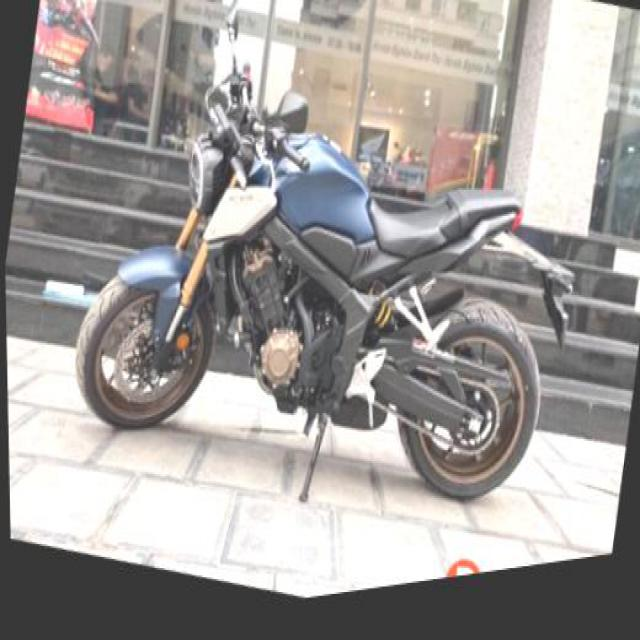CB650R: (55, 0, 600, 622)
